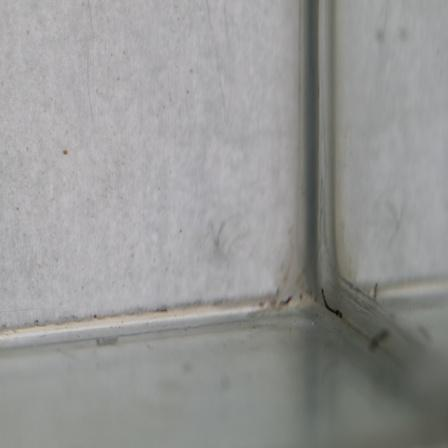Jentik-Nyamuk: (319, 286, 346, 323)
